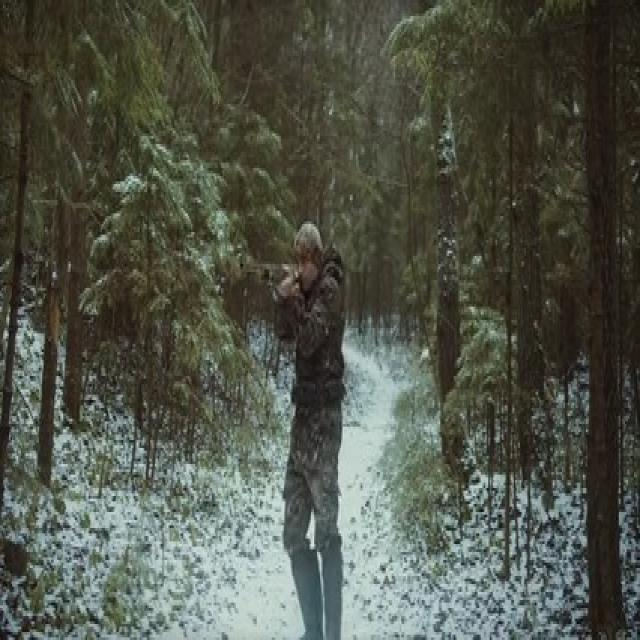Gun_Holder: (238, 259, 308, 296)
Person: (277, 220, 350, 635)
